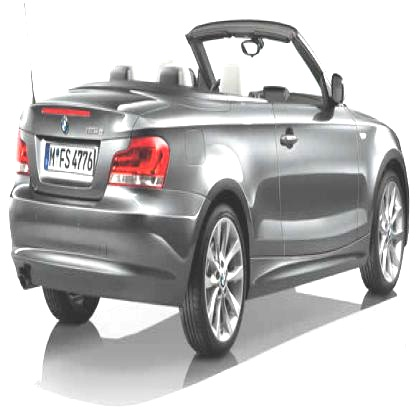Vehicle: (7, 1, 413, 362)
